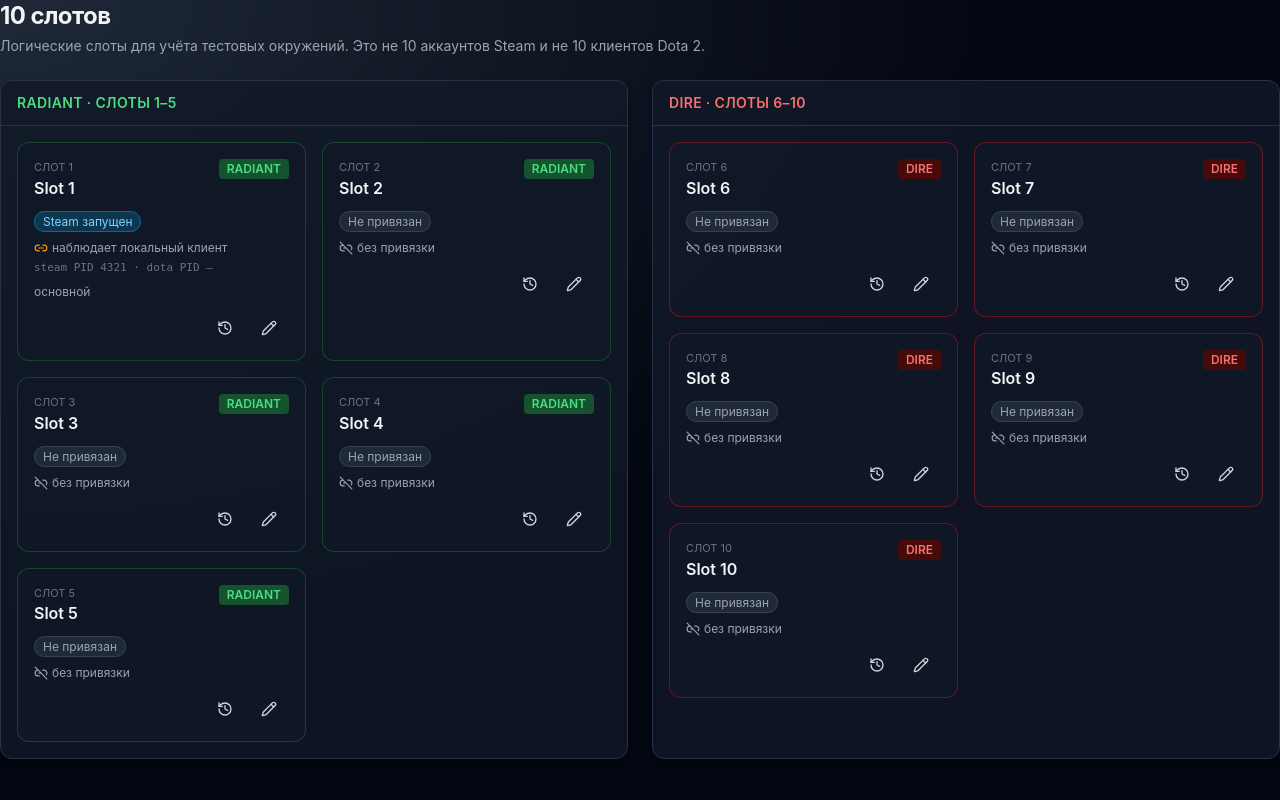
Scenario: Slots page › shows the server's reason when a second slot is bound
What coordinates should you click on to do the following:
click the button named "Изменить слот 3"
I would click on:
 (269, 518)
Its box is [249,502,289,534].
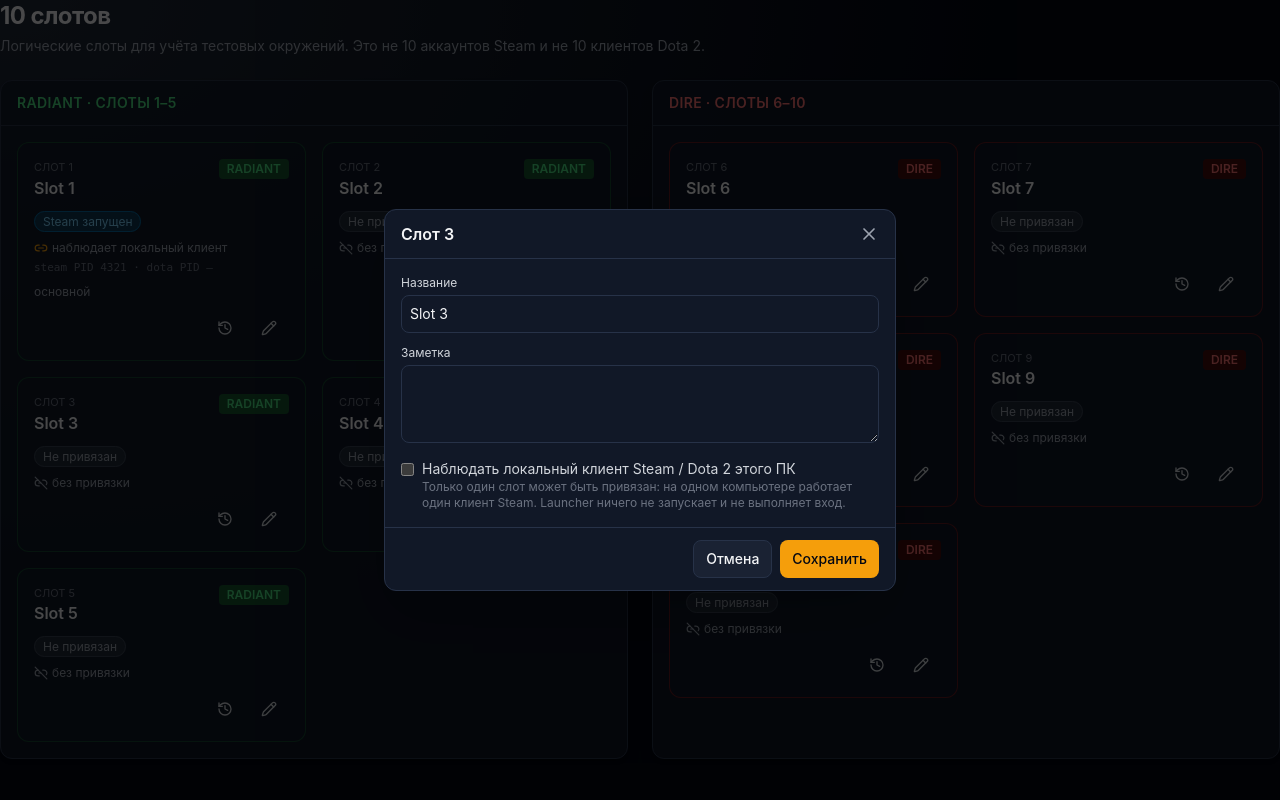
What coordinates should you click on to do the following:
click the checkbox with test id "slot-bind"
I would click on:
 (408, 470)
Its box is [401,463,414,476].
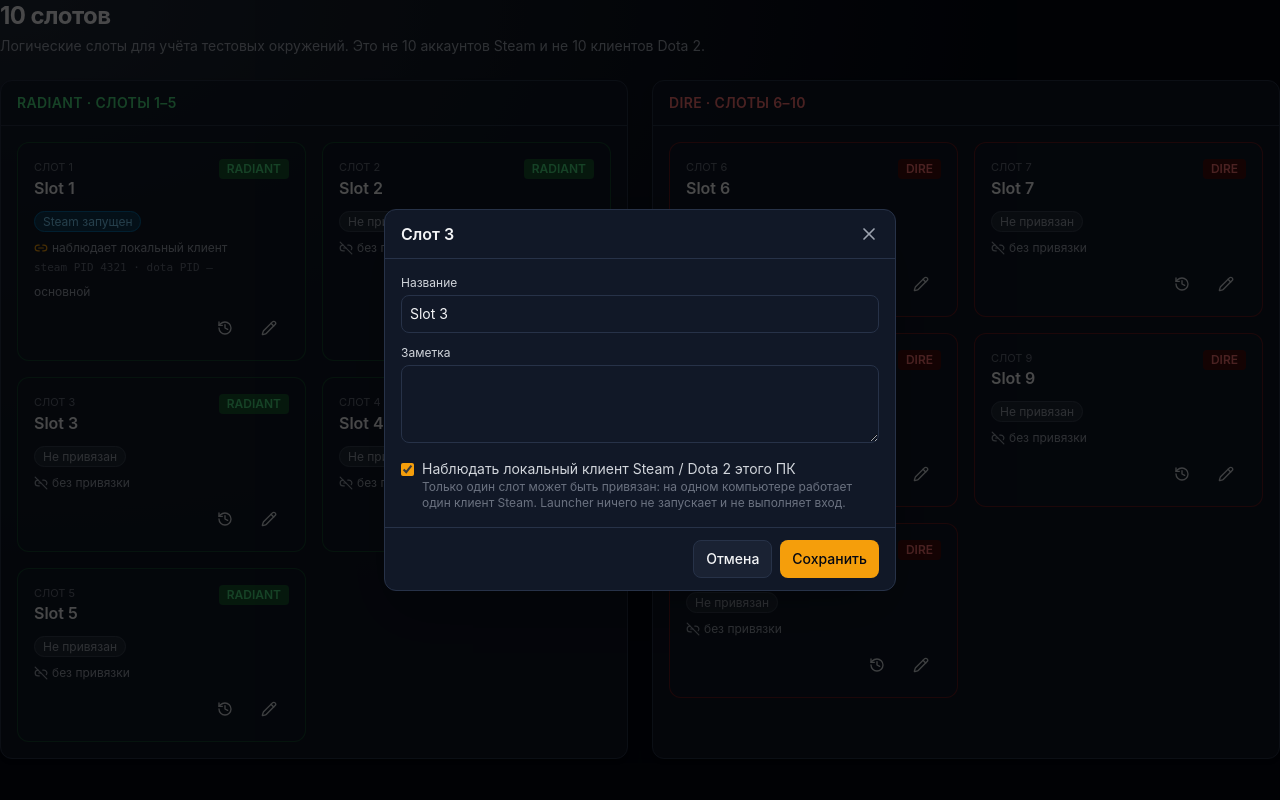
What coordinates should you click on to do the following:
click the button with test id "slot-save"
I would click on:
 (830, 559)
Its box is [780,540,879,578].
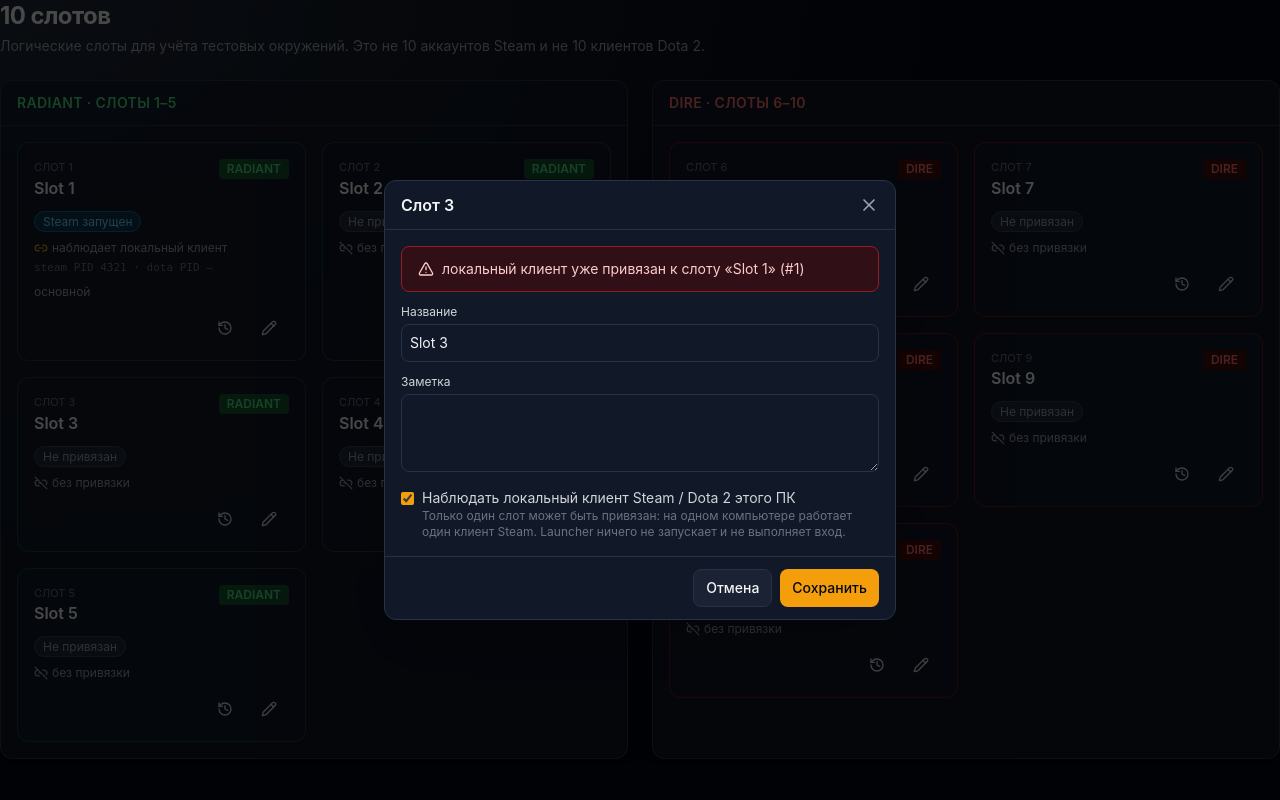
Now the message shows "уже привязан", box [442,260,804,277]
